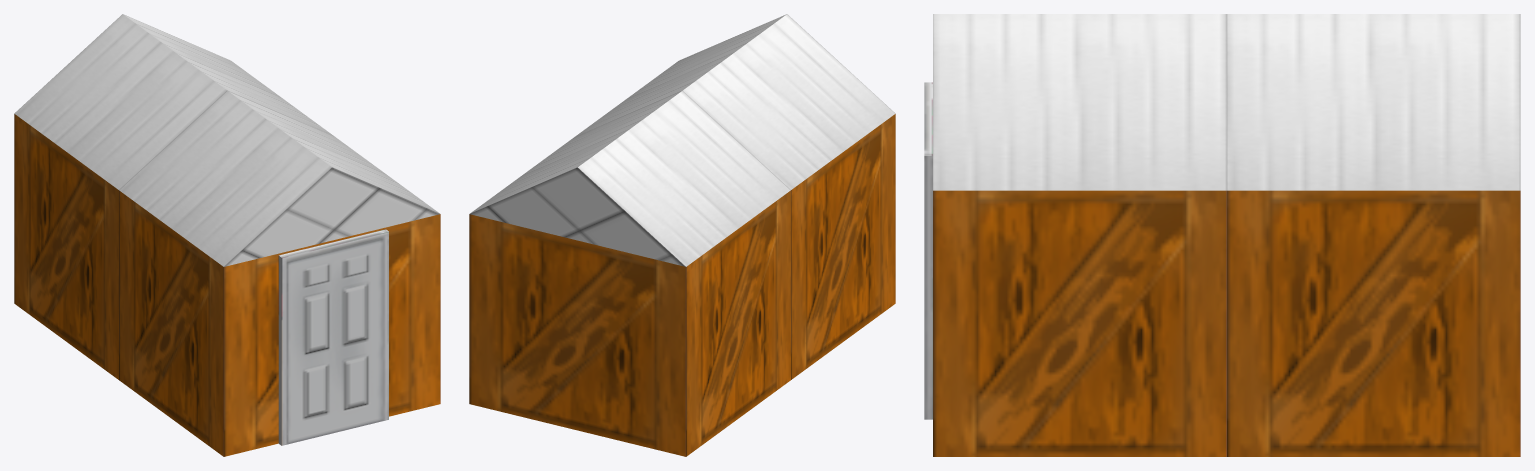
Rendered from Shed_2.fbx.
The picture shows the model from 3 angles, left to right: view 1: azimuth 30°, elevation 25°; view 2: azimuth 150°, elevation 25°; view 3: azimuth 270°, elevation 25°; orthographic projection. The views are drawn at different scales.
Parts seen in each view (by area): view 1: Maya_File_Assets:TexturedAssetsCurrent:Old_Shed_01; view 2: Maya_File_Assets:TexturedAssetsCurrent:Old_Shed_01; view 3: Maya_File_Assets:TexturedAssetsCurrent:Old_Shed_01.
Part boxes in pixels (box(x1,y1,x2,y2)): Maya_File_Assets:TexturedAssetsCurrent:Old_Shed_01: box(14, 14, 440, 456); Maya_File_Assets:TexturedAssetsCurrent:Old_Shed_01: box(469, 14, 895, 456); Maya_File_Assets:TexturedAssetsCurrent:Old_Shed_01: box(924, 14, 1520, 456).
Bounding box in the file's own units: 3.18 × 3.68 × 5.39.
